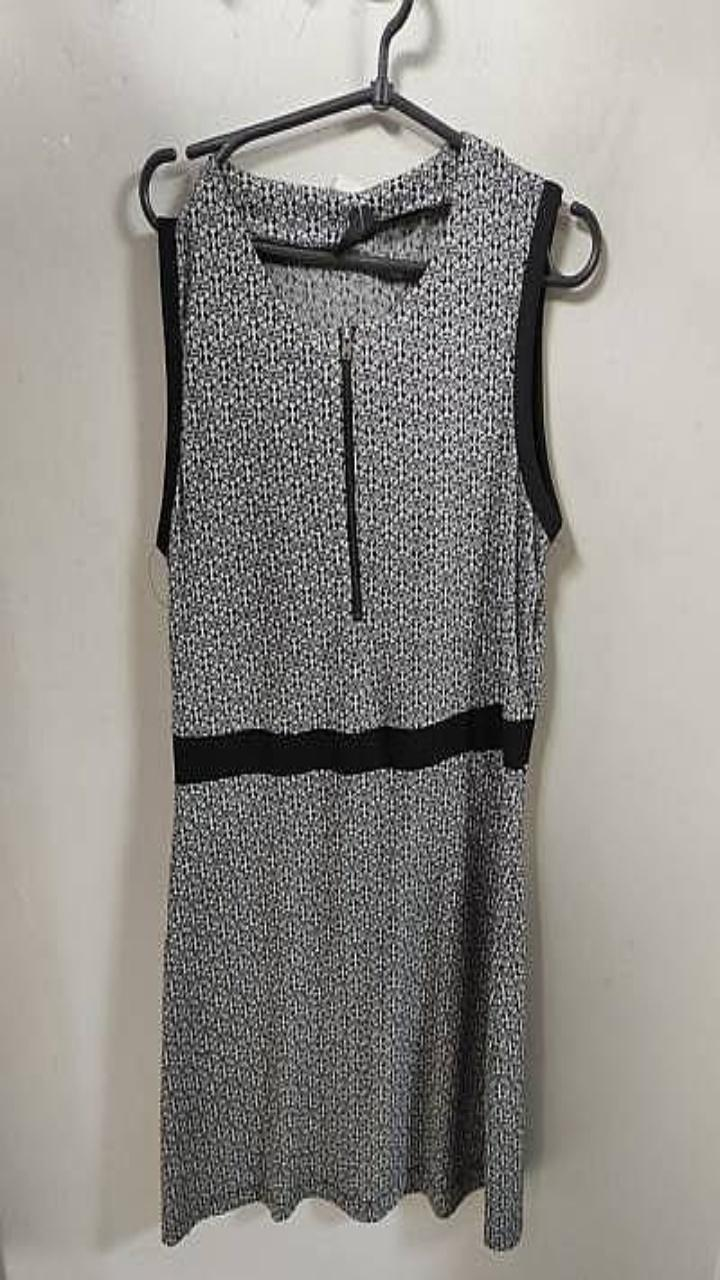Dresses: (156, 132, 561, 1249)
